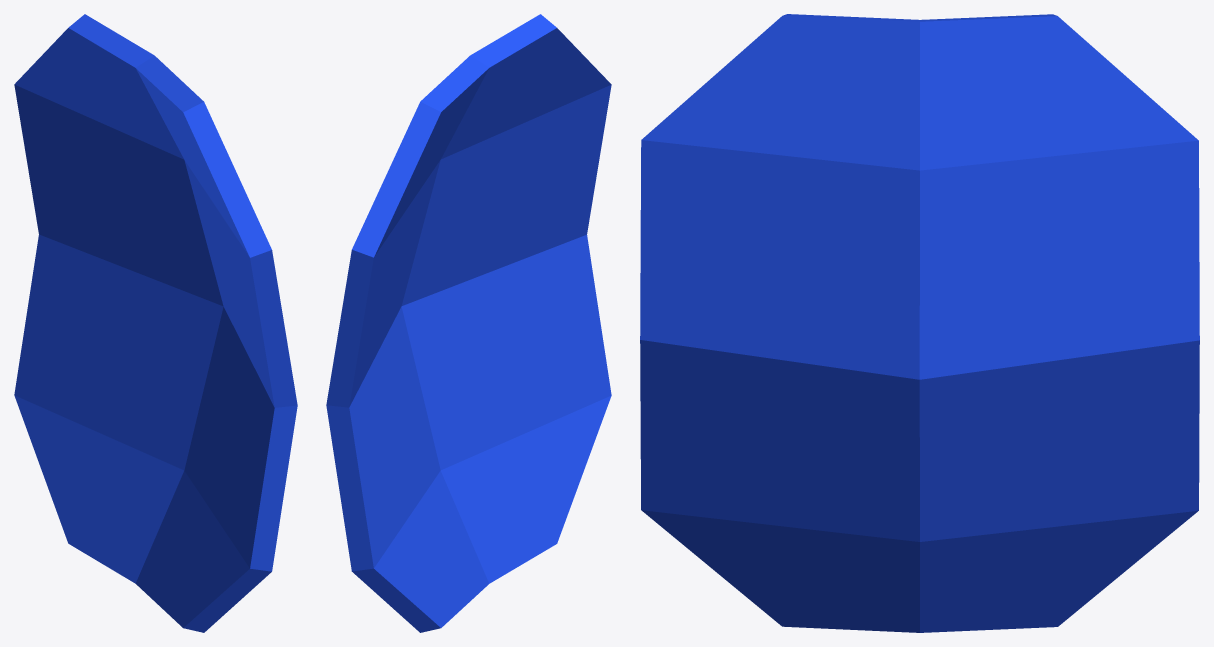
3 views of the same model, side by side, from view 1: azimuth 30°, elevation 25°; view 2: azimuth 150°, elevation 25°; view 3: azimuth 270°, elevation 25° (orthographic). The views are drawn at different scales.
Visible parts, largest first — view 1: 平面.043; view 2: 平面.043; view 3: 平面.043.
Boxes of the visible parts, x1,y1,x2,y2 form: 平面.043: (14, 14, 297, 632); 平面.043: (326, 14, 611, 632); 平面.043: (640, 14, 1199, 632).
Bounding box in the file's own units: 28.4 × 122 × 101.
1 material, 1 textured.
